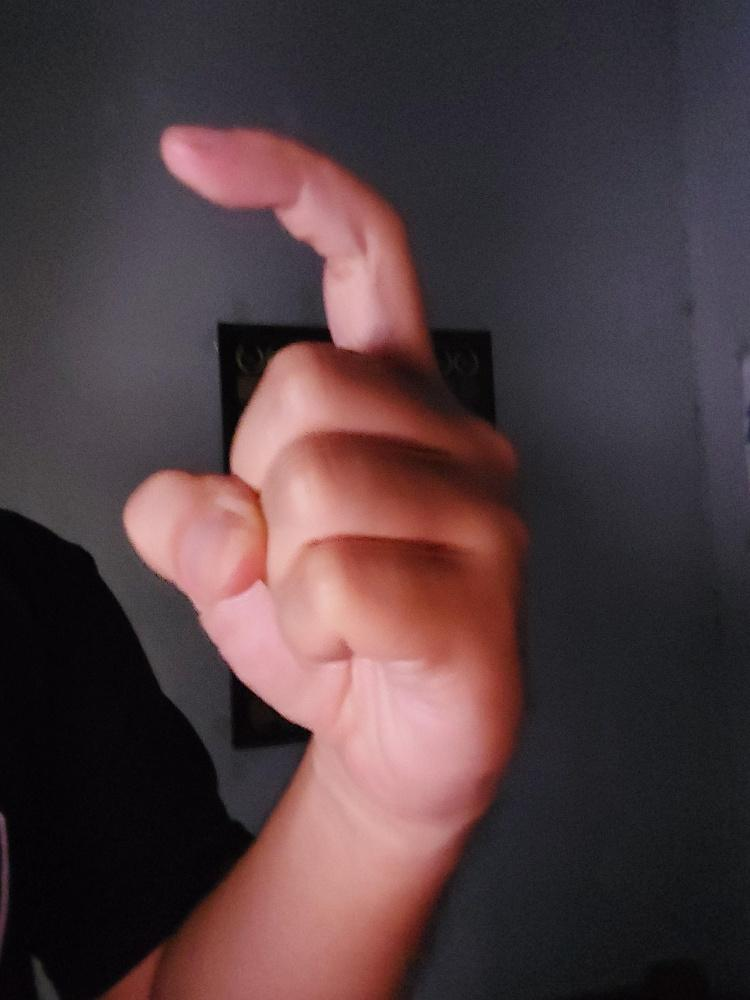x: (123, 119, 529, 830)
